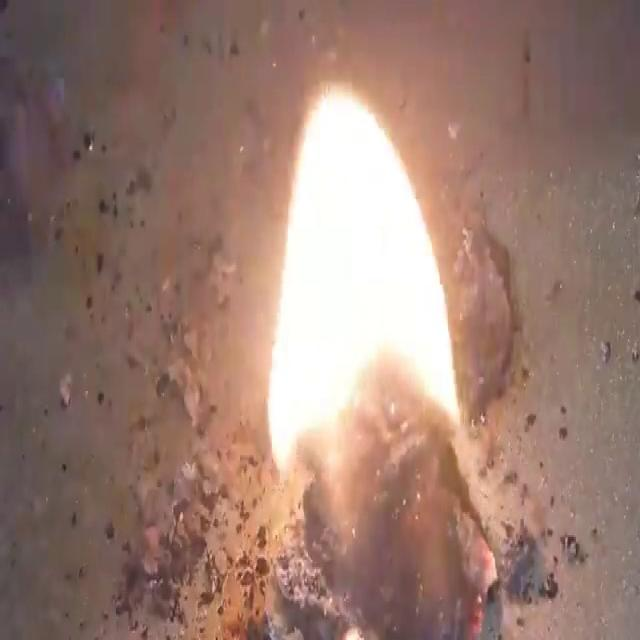Fire: (3, 4, 636, 636), (264, 78, 463, 478)
